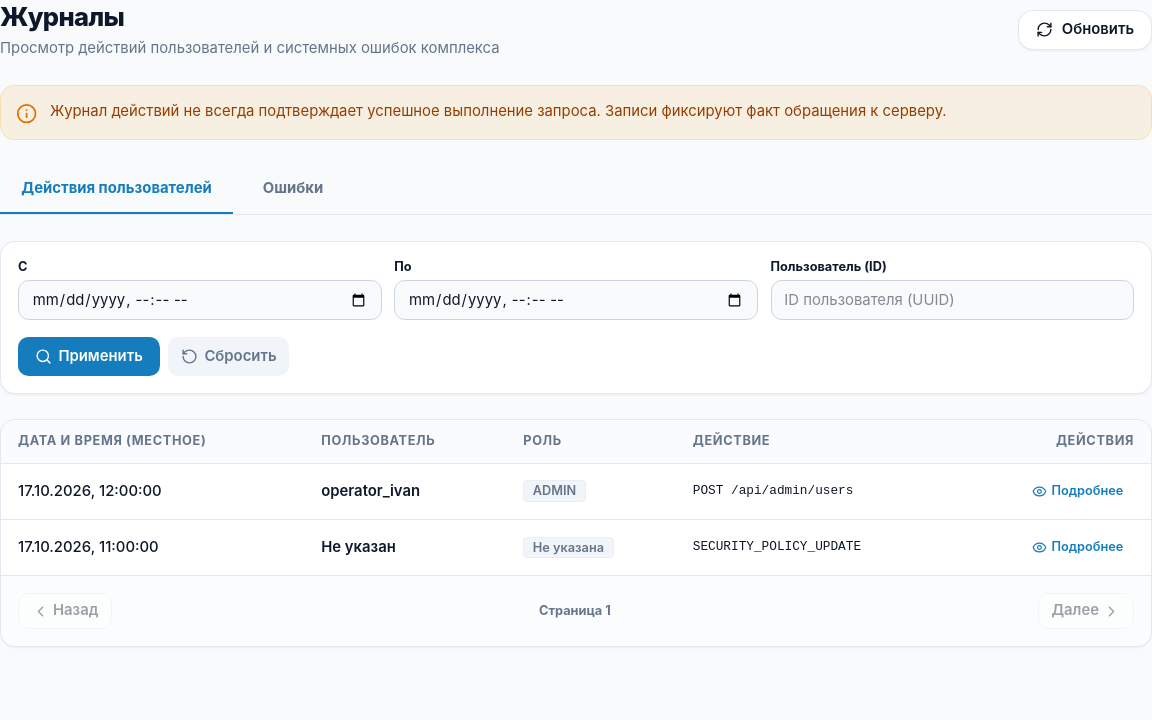
Scenario: Admin Logs Page and Navigation › opens details modal, formats JSON details, escapes HTML safely, and closes on Escape
Expected: the text "operator_ivan" is shown, [304, 463, 506, 519]
# Click first "Подробнее" button
Click the button "Подробнее" in the row of "17.10.2026, 12:00:00".
click(1078, 491)  # box [1022, 476, 1134, 506]
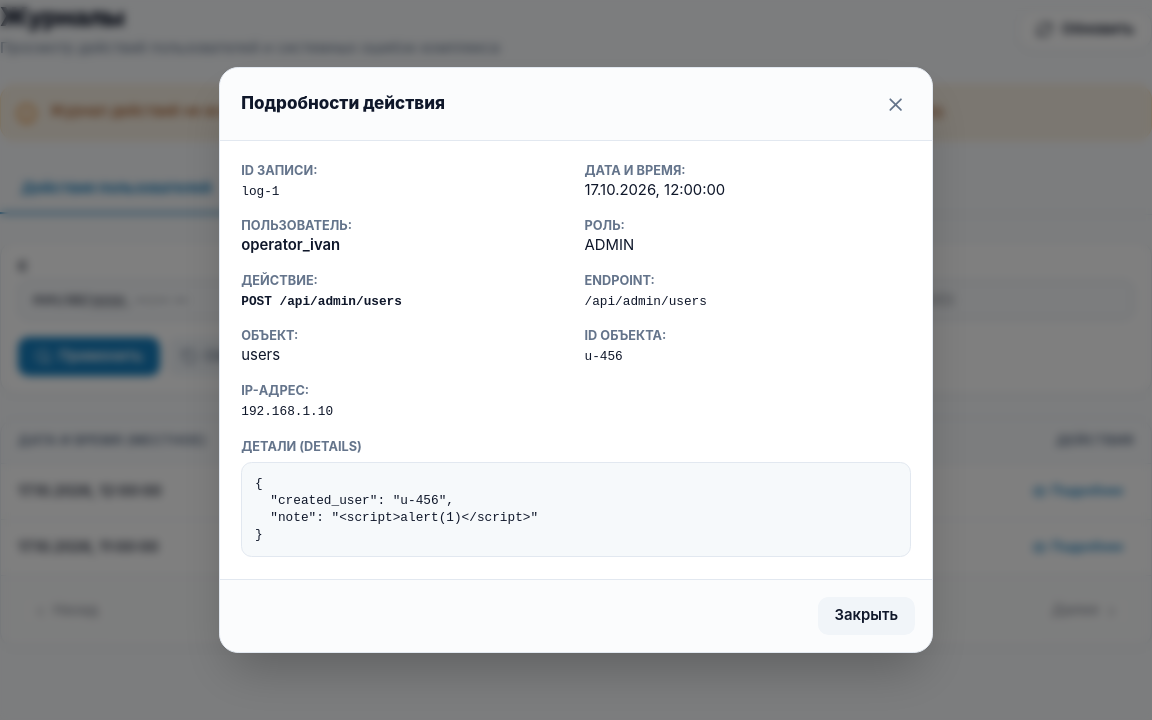
Result: the dialog is shown
Result: the text "ID записи:" is shown at [241, 162, 318, 178]
Result: the text "log-1" is shown at [241, 184, 280, 198]
# Close on Escape key
Press Escape
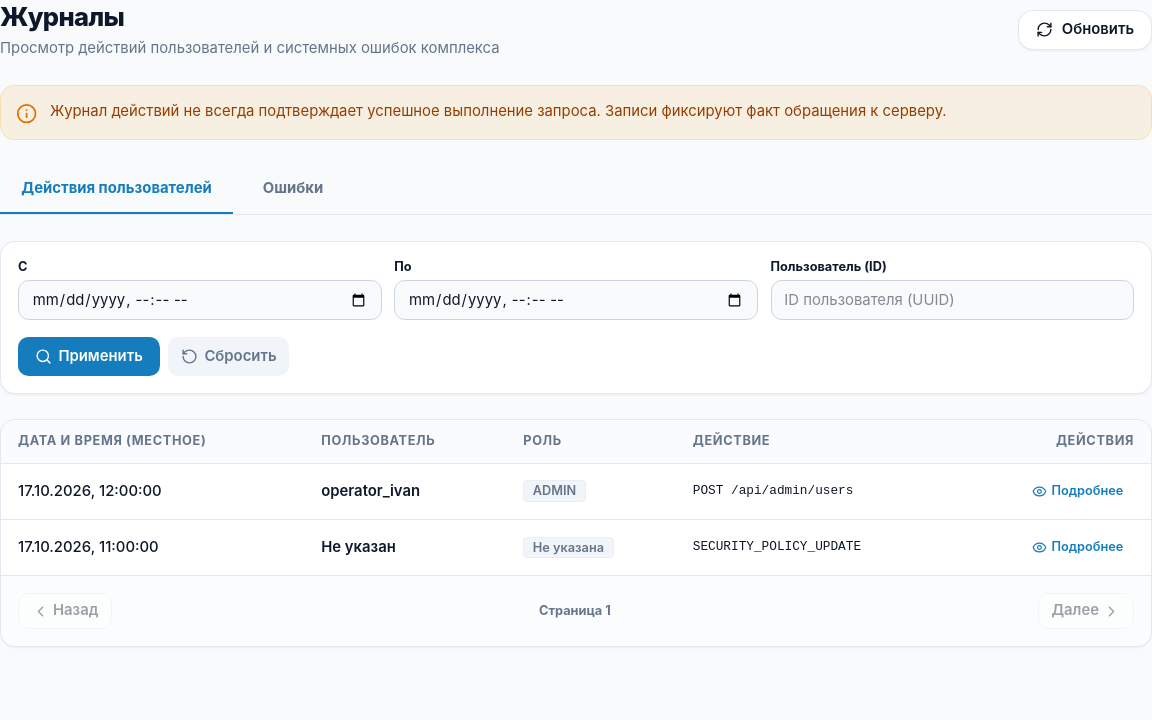
Result: the dialog is gone
